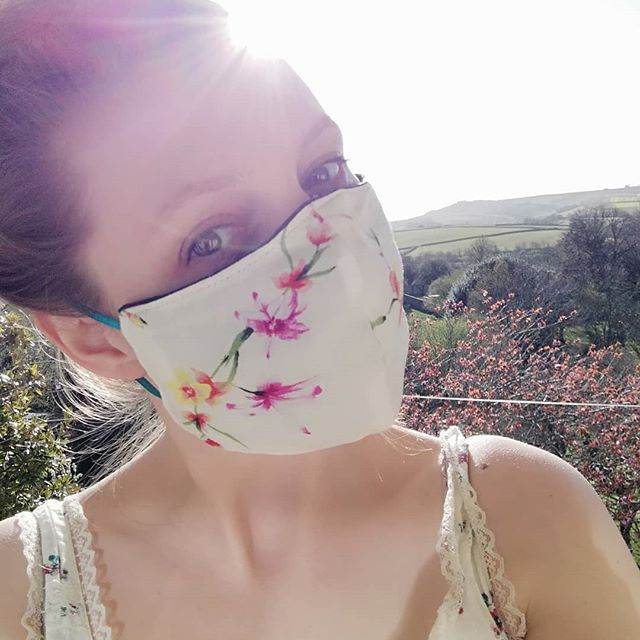homemade: (113, 177, 410, 460)
